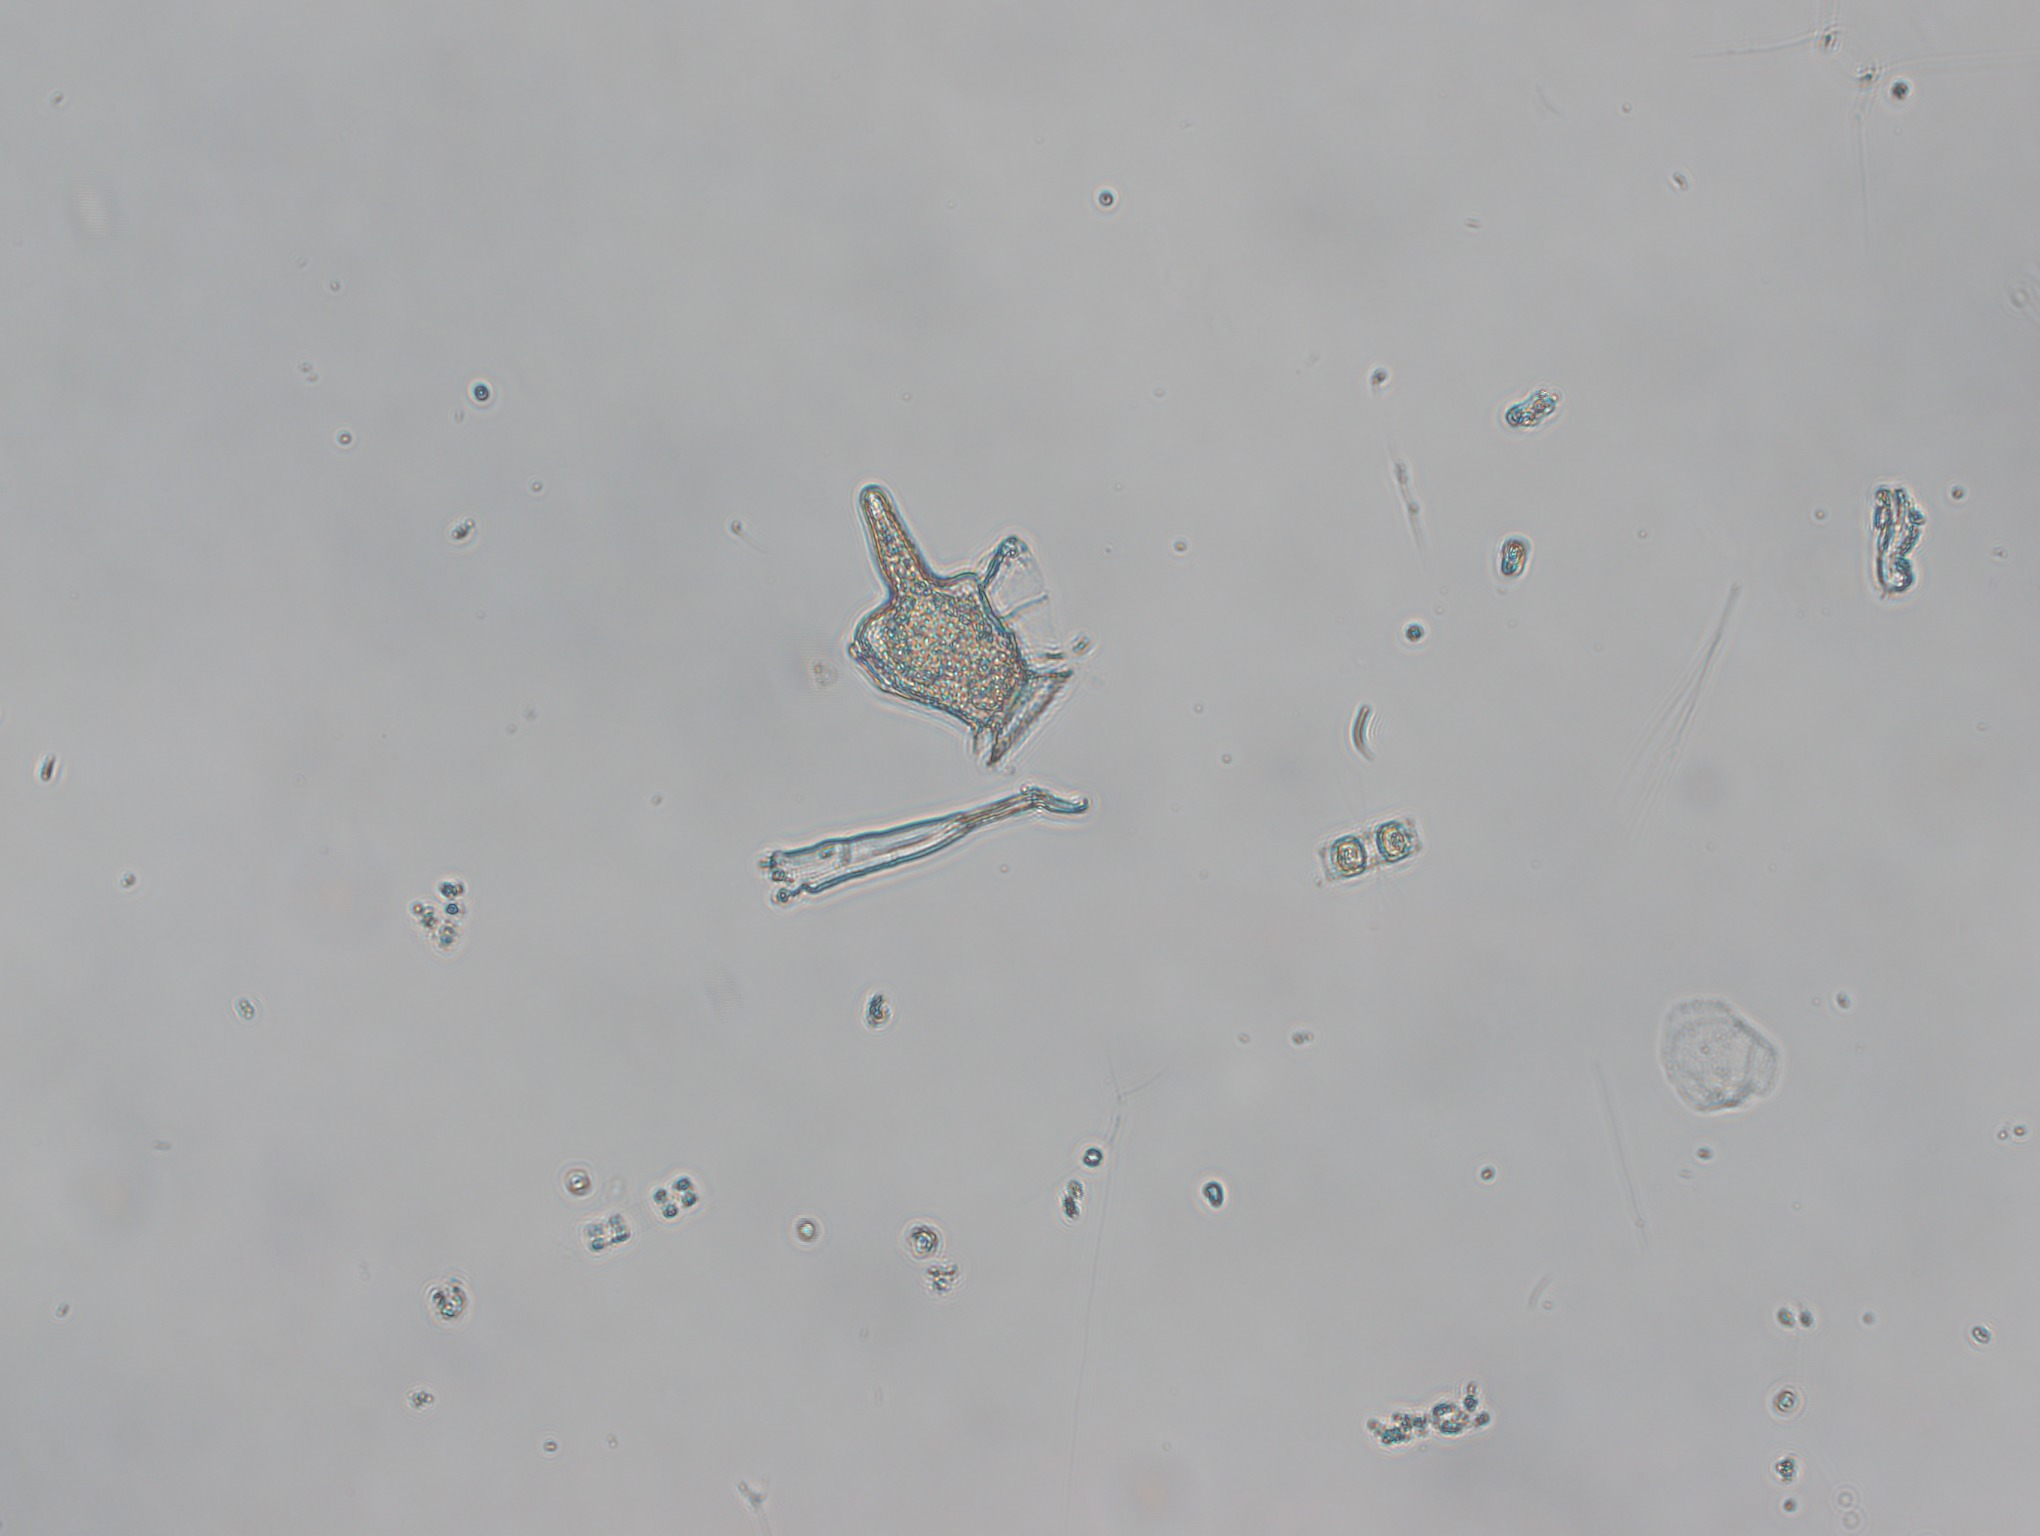dinophysis caudata: (842, 481, 1080, 766)
skeletonema: (577, 1173, 708, 1254)
